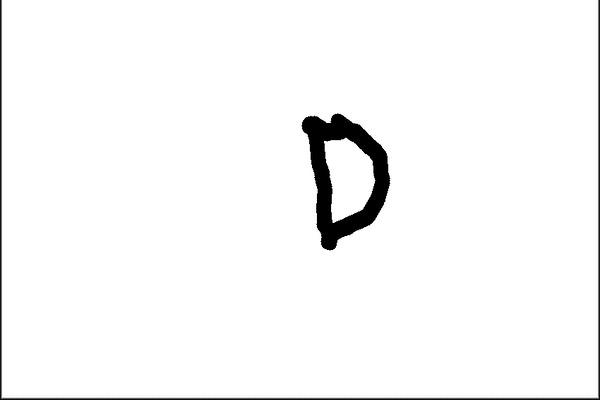D: (296, 106, 392, 253)
